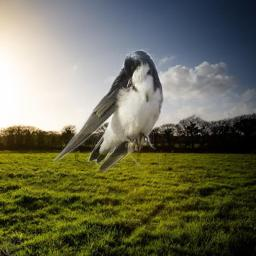Swallow: (53, 48, 166, 173)
